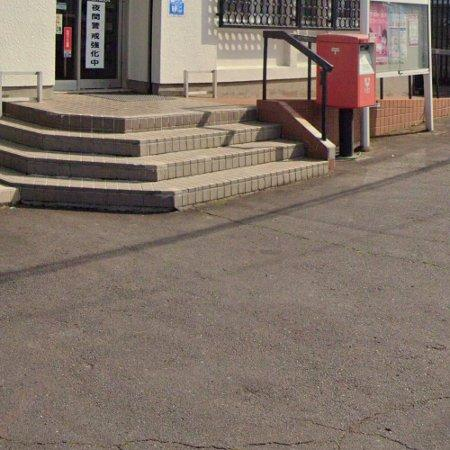stairs: (0, 95, 330, 212)
